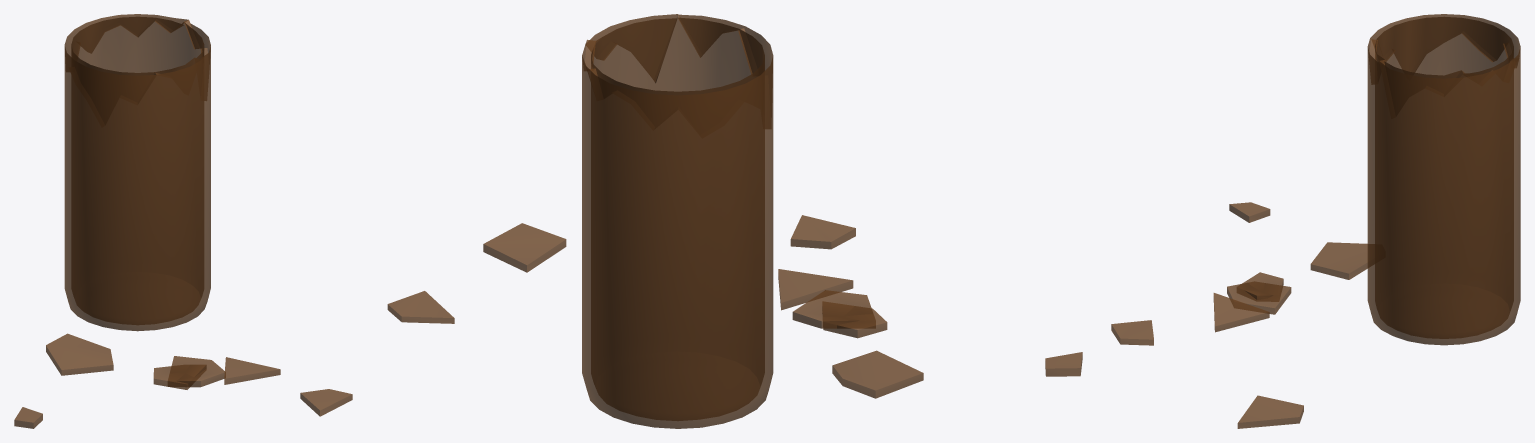
The model's file is bottle_broken.glb.
The picture shows the model from 3 angles, left to right: view 1: azimuth 30°, elevation 25°; view 2: azimuth 150°, elevation 25°; view 3: azimuth 270°, elevation 25°; orthographic projection. The views are drawn at different scales.
Parts seen in each view (by area): view 1: bottle_broken; view 2: bottle_broken; view 3: bottle_broken.
Boxes of the visible parts, bbox=[...] form: bottle_broken: bbox=[14, 14, 454, 428]; bottle_broken: bbox=[483, 14, 1082, 428]; bottle_broken: bbox=[1111, 14, 1520, 428].
Bounding box in the file's own units: 0.2124 × 0.1238 × 0.166.
